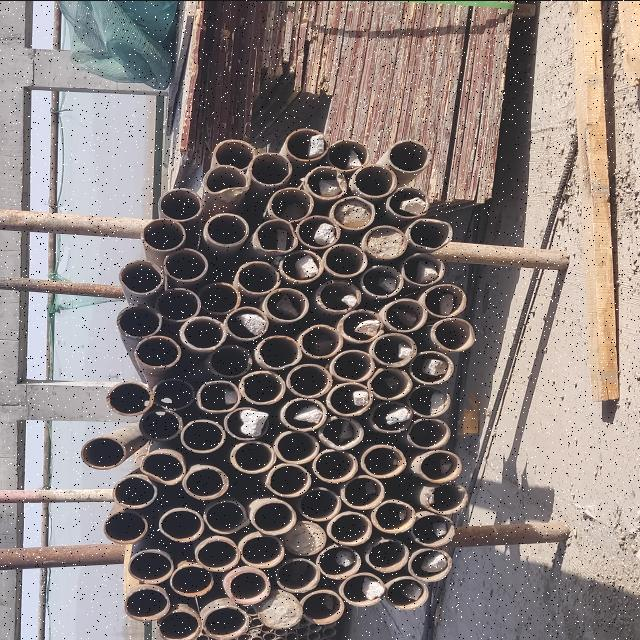pipe: (282, 361, 332, 401), (256, 589, 302, 630), (105, 376, 152, 416), (112, 303, 160, 342), (383, 182, 431, 220), (366, 332, 416, 368), (361, 221, 407, 260), (428, 316, 478, 351), (116, 258, 162, 296), (124, 586, 172, 622), (131, 333, 179, 369), (330, 194, 378, 230), (335, 307, 383, 343), (399, 252, 447, 288), (184, 463, 227, 503), (193, 377, 240, 413), (294, 486, 338, 524), (315, 544, 359, 582), (158, 284, 202, 322), (314, 278, 366, 310), (128, 547, 174, 583), (272, 556, 318, 592), (387, 138, 433, 174), (384, 578, 432, 612), (254, 334, 302, 368), (296, 323, 344, 357), (225, 567, 269, 604), (313, 449, 358, 485), (337, 572, 382, 608), (260, 188, 314, 218), (370, 498, 416, 533), (300, 589, 340, 629), (324, 510, 371, 544), (204, 496, 246, 534), (142, 448, 186, 484), (250, 499, 298, 532), (282, 520, 326, 556), (284, 125, 332, 158), (240, 369, 285, 404), (202, 604, 248, 638), (251, 218, 297, 252), (321, 242, 367, 276), (350, 162, 396, 196), (198, 534, 239, 572), (201, 164, 244, 200), (264, 462, 308, 497), (263, 286, 307, 321), (294, 214, 339, 248), (170, 563, 210, 601), (416, 448, 462, 481), (154, 187, 200, 220), (202, 212, 248, 245), (180, 315, 222, 351), (208, 343, 250, 379), (359, 262, 401, 298), (368, 364, 410, 400), (206, 138, 256, 168), (83, 434, 127, 468), (104, 510, 148, 544), (241, 534, 285, 568), (361, 442, 405, 476), (165, 246, 209, 280), (248, 152, 292, 186), (380, 296, 424, 330), (424, 282, 468, 316), (320, 416, 366, 448), (410, 514, 456, 546), (152, 375, 194, 410), (226, 406, 269, 440), (140, 217, 184, 250), (406, 548, 454, 578), (367, 536, 409, 570), (410, 383, 452, 417), (181, 418, 223, 452), (330, 348, 372, 382), (234, 260, 278, 292), (278, 249, 322, 281), (326, 137, 370, 169), (113, 473, 154, 507), (276, 431, 318, 464), (232, 440, 272, 474), (226, 305, 266, 339), (412, 350, 452, 384), (408, 217, 453, 247), (159, 506, 201, 538), (282, 398, 324, 430), (338, 475, 382, 505), (423, 482, 467, 512), (306, 166, 348, 197), (157, 606, 195, 640), (408, 417, 451, 447), (371, 400, 411, 432), (138, 408, 179, 438), (201, 280, 237, 314)
